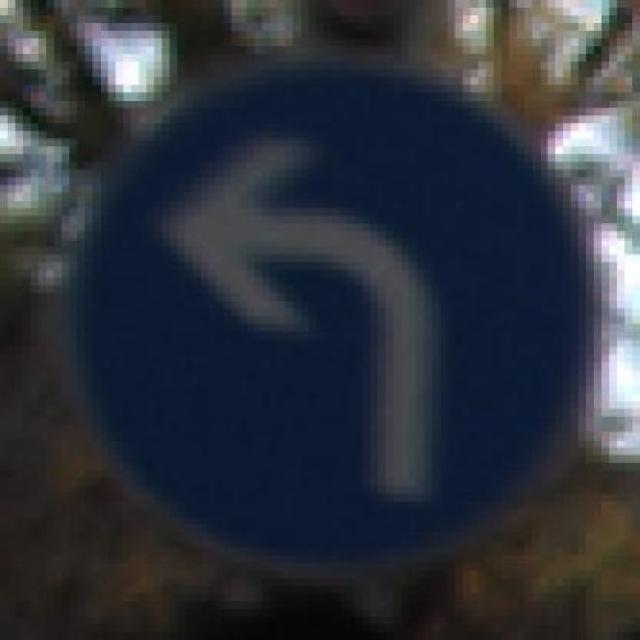Turn left ahead: (31, 46, 609, 563)
